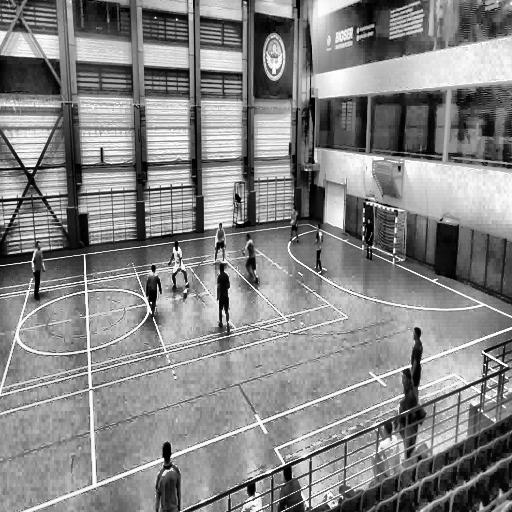ball: (183, 288, 187, 297)
player: (155, 441, 181, 511), (168, 242, 190, 290), (217, 262, 230, 334), (30, 240, 45, 299), (243, 233, 259, 284), (411, 332, 422, 404), (146, 265, 161, 314), (214, 223, 226, 265), (314, 225, 324, 272), (364, 217, 373, 261), (290, 204, 299, 243)
